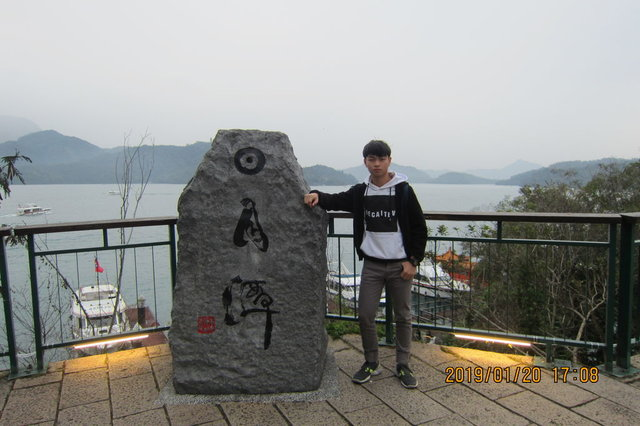people: (307, 140, 429, 386)
